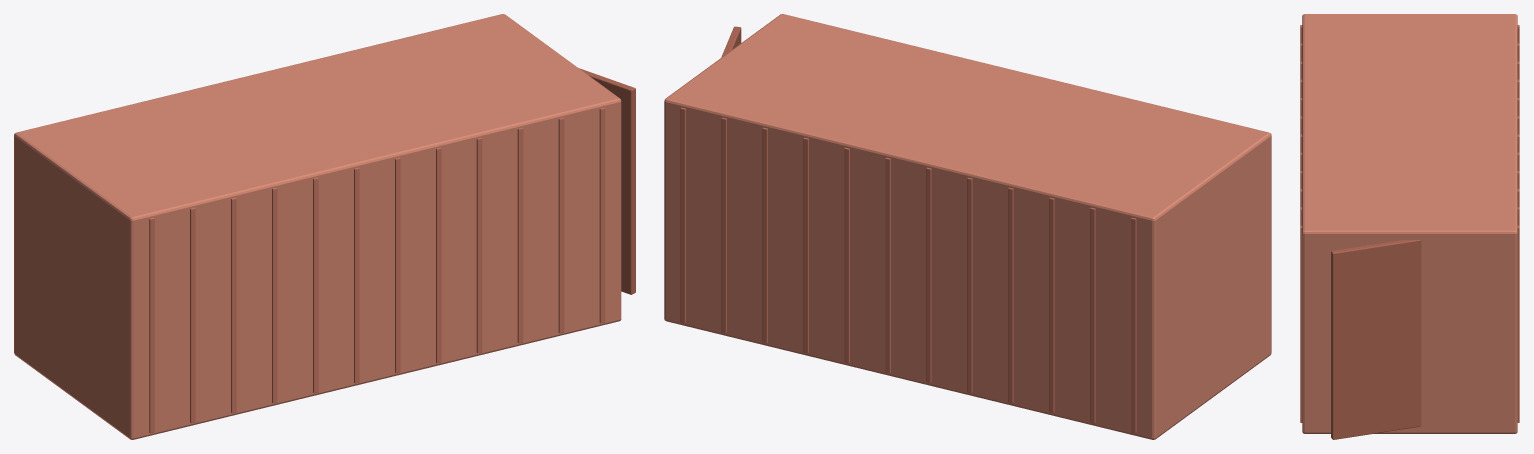
File: shipping-container.glb
3 views of the same model, side by side, from view 1: azimuth 30°, elevation 25°; view 2: azimuth 150°, elevation 25°; view 3: azimuth 270°, elevation 25° (orthographic). The views are drawn at different scales.
Visible parts, largest first — view 1: shipping_container; view 2: shipping_container; view 3: shipping_container.
Part boxes in pixels (x1=…): shipping_container: x1=14, y1=14, x2=635, y2=439; shipping_container: x1=664, y1=14, x2=1271, y2=439; shipping_container: x1=1300, y1=14, x2=1519, y2=439.
Bounding box in the file's own units: 6.37 × 2.6 × 2.54.
